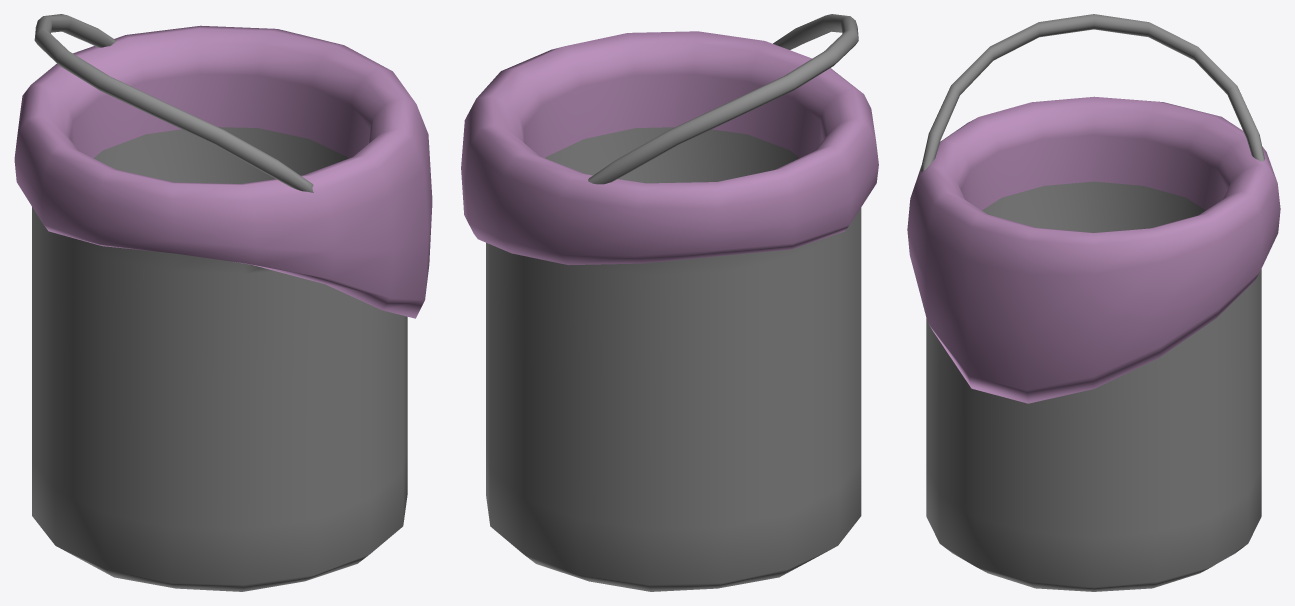
Rendered from PaintBucket.fbx.
The picture shows the model from 3 angles, left to right: view 1: azimuth 30°, elevation 25°; view 2: azimuth 150°, elevation 25°; view 3: azimuth 270°, elevation 25°; orthographic projection. The views are drawn at different scales.
Visible parts, largest first — view 1: pCylinder4; view 2: pCylinder4; view 3: pCylinder4.
Part boxes in pixels (bbox=[...]): pCylinder4: bbox=[14, 14, 432, 591]; pCylinder4: bbox=[461, 14, 878, 591]; pCylinder4: bbox=[907, 14, 1280, 591].
Bounding box in the file's own units: 2.06 × 2.75 × 2.06.
